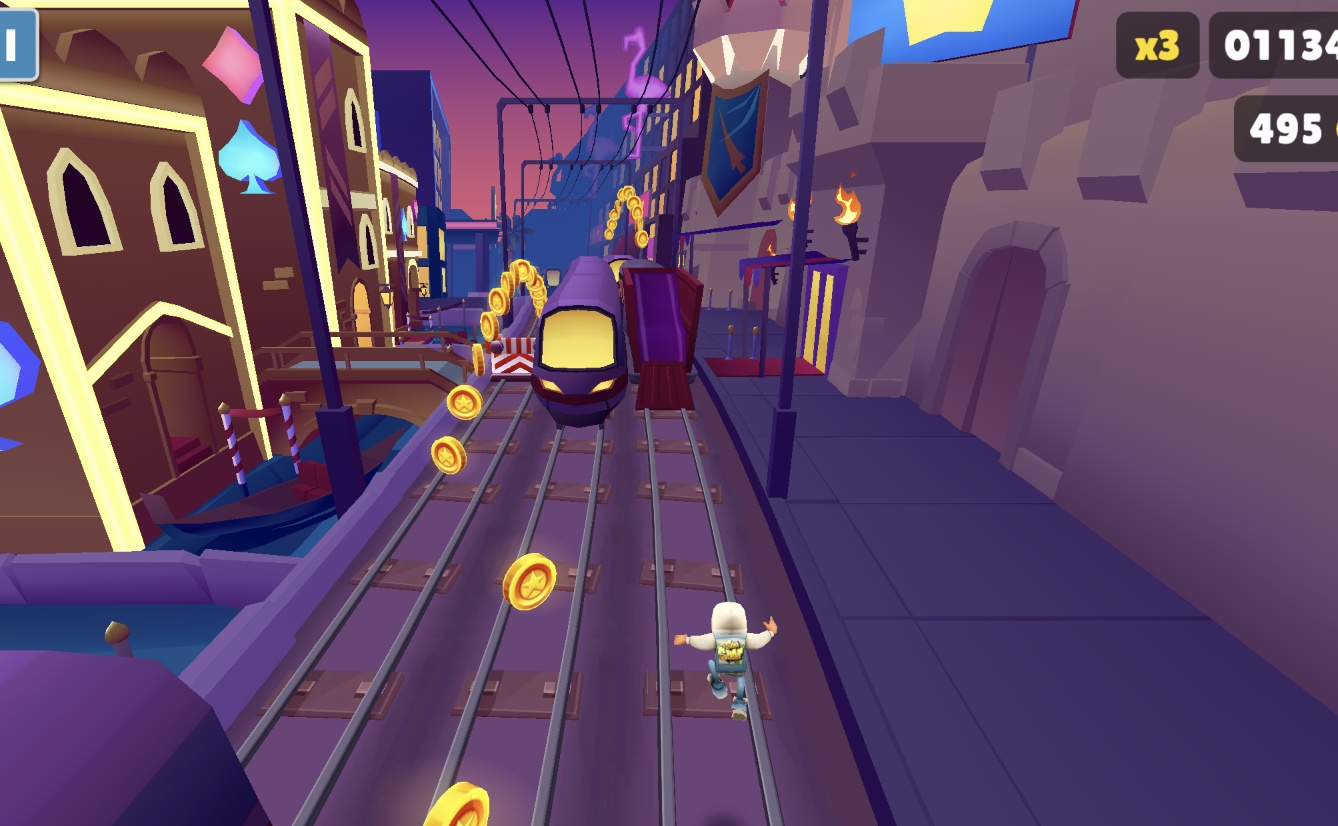ground_barrier: (489, 357, 537, 387)
train: (544, 289, 637, 424), (619, 270, 701, 412)
